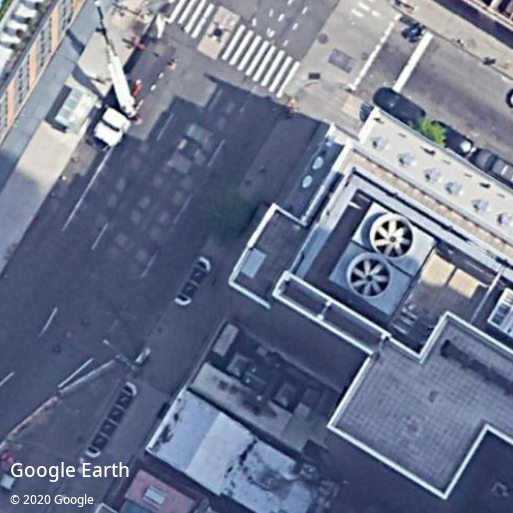Vent: (373, 218, 413, 259), (350, 258, 390, 297)
